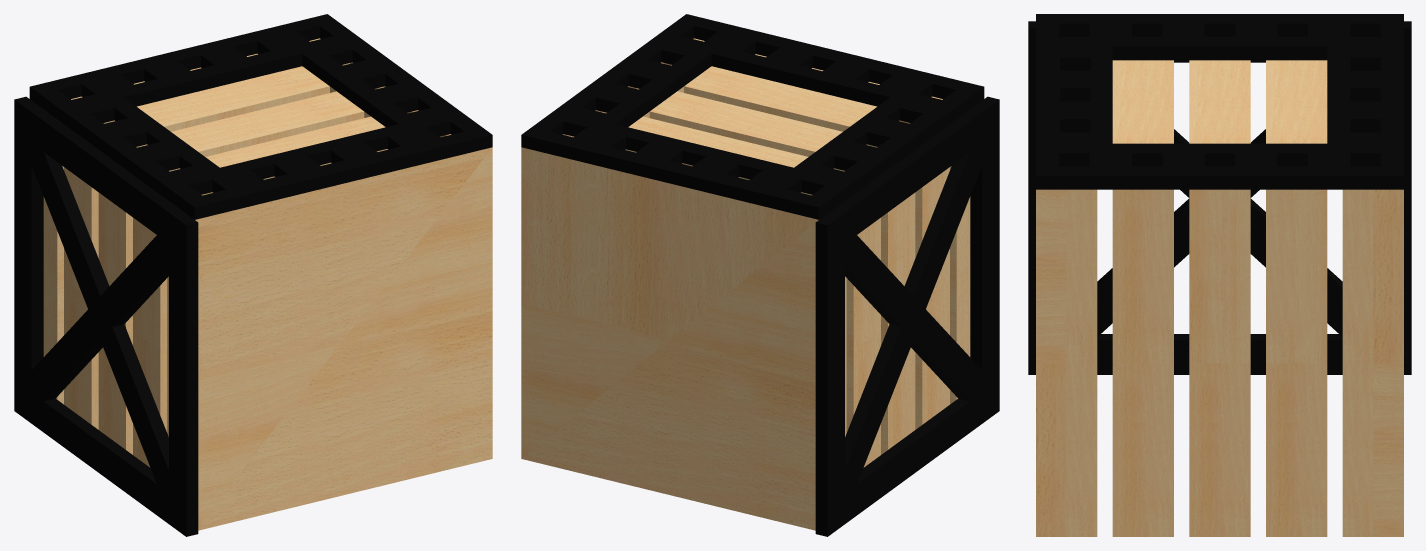
Rendered from TRIAL5.fbx.
3 views of the same model, side by side, from view 1: azimuth 30°, elevation 25°; view 2: azimuth 150°, elevation 25°; view 3: azimuth 270°, elevation 25° (orthographic). The views are drawn at different scales.
Parts seen in each view (by area): view 1: Layer 04, Layer 02, Layer 01, Layer 03, Object_20, Object_21; view 2: Layer 04, Layer 02, Layer 01, Layer 03, Object_20, Object_21; view 3: Layer 03, Layer 01, Layer 04, Layer 02.
Boxes of the visible parts, <box> form: Layer 04: <box>71,38,492,530</box>; Layer 02: <box>14,96,198,536</box>; Layer 01: <box>29,14,492,219</box>; Layer 03: <box>43,62,451,467</box>; Object_20: <box>31,265,156,483</box>; Object_21: <box>31,166,43,267</box>; Layer 04: <box>521,38,942,530</box>; Layer 02: <box>815,96,999,536</box>; Layer 01: <box>521,14,984,219</box>; Layer 03: <box>562,62,970,467</box>; Object_20: <box>857,265,982,483</box>; Object_21: <box>970,166,982,267</box>; Layer 03: <box>1066,60,1373,536</box>; Layer 01: <box>1036,14,1403,189</box>; Layer 04: <box>1036,189,1403,536</box>; Layer 02: <box>1028,21,1411,374</box>.
Bounding box in the file's own units: 5.2 × 5 × 5.2.
3 materials, 1 textured.
